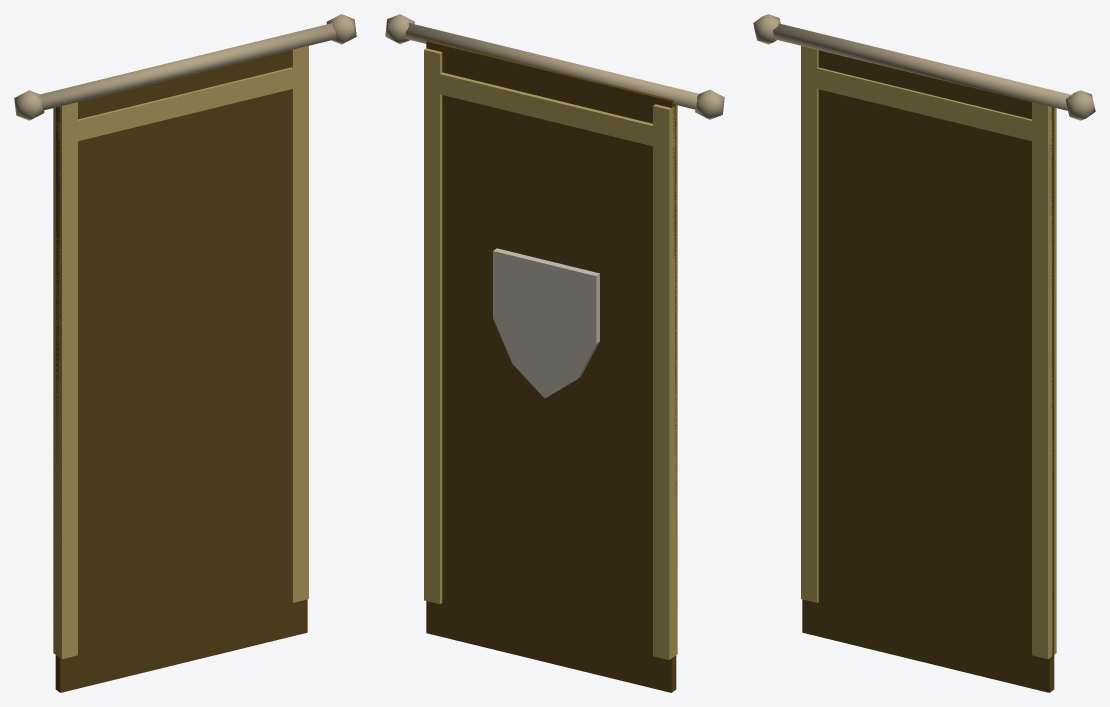
The model's file is pirate_captain_banner_v0.glb.
The picture shows the model from 3 angles, left to right: view 1: azimuth 30°, elevation 25°; view 2: azimuth 150°, elevation 25°; view 3: azimuth 330°, elevation 25°; orthographic projection.
Parts seen in each view (by area): view 1: pirate_captain_banner_v0; view 2: pirate_captain_banner_v0; view 3: pirate_captain_banner_v0.
Part boxes in pixels (<box>): pirate_captain_banner_v0: <box>14,14,356,692</box>; pirate_captain_banner_v0: <box>385,14,724,692</box>; pirate_captain_banner_v0: <box>753,14,1095,692</box>.
Size of the model in its own units: 1.04 by 1.8 by 0.0933.
